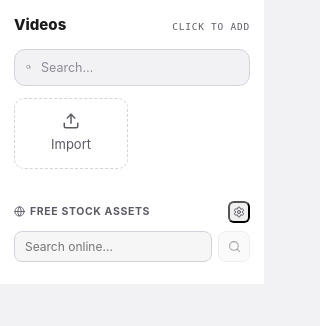
LibraryPanel — searching online › says when nothing was found
Type "cats" into the field with placeholder "Search online…" at (113, 246), box [14,231,212,262]
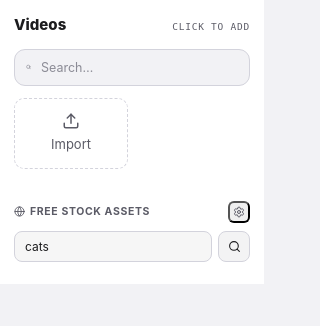
Click the 2nd button at (234, 246), box [218,231,250,262]
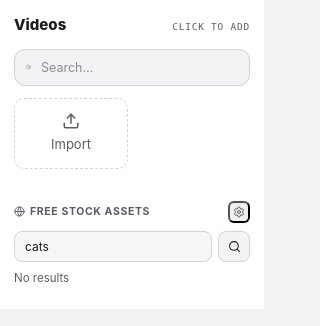
Now the text "No results" is shown, box [14,271,69,285]
